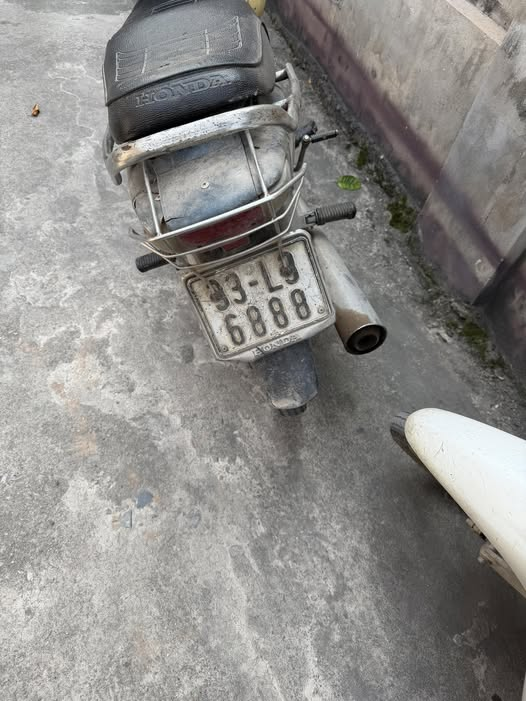bien_so: (171, 224, 356, 368)
